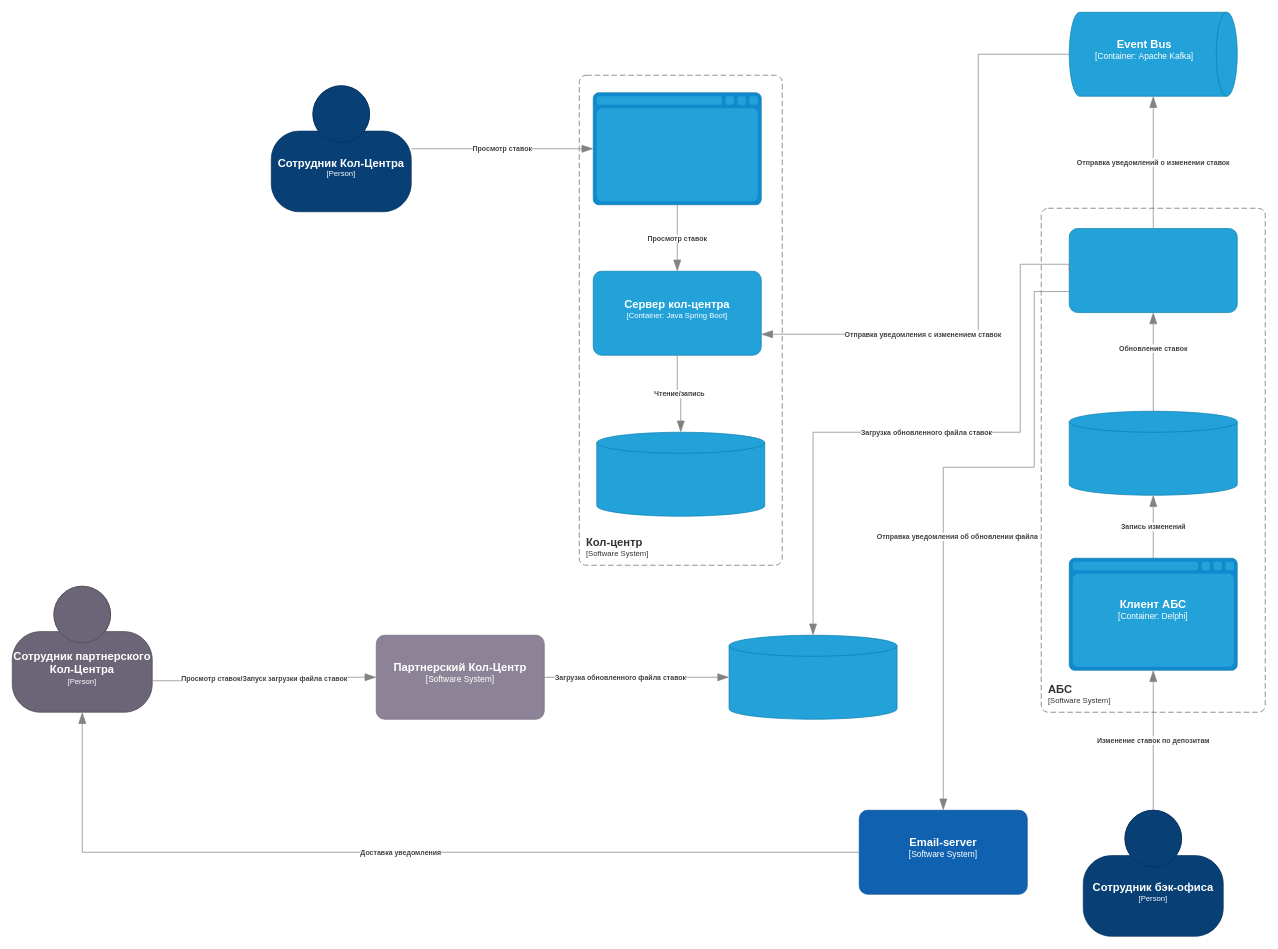
Some shapes in this 1278 by 949 pixel diagram are drawn without their labels. The centre of each missing label's shape, as x and y in pixels:
API АБС [Container: Delphy]: point (1153, 270)
АБС [Container: Oracle]: point (1153, 453)
База данных [Container: PostgreSQL]: point (680, 474)
Веб интерфейс кол-центра [Container: React]: point (677, 148)
Файловое хранилище [Container: SFTP]: point (812, 677)
